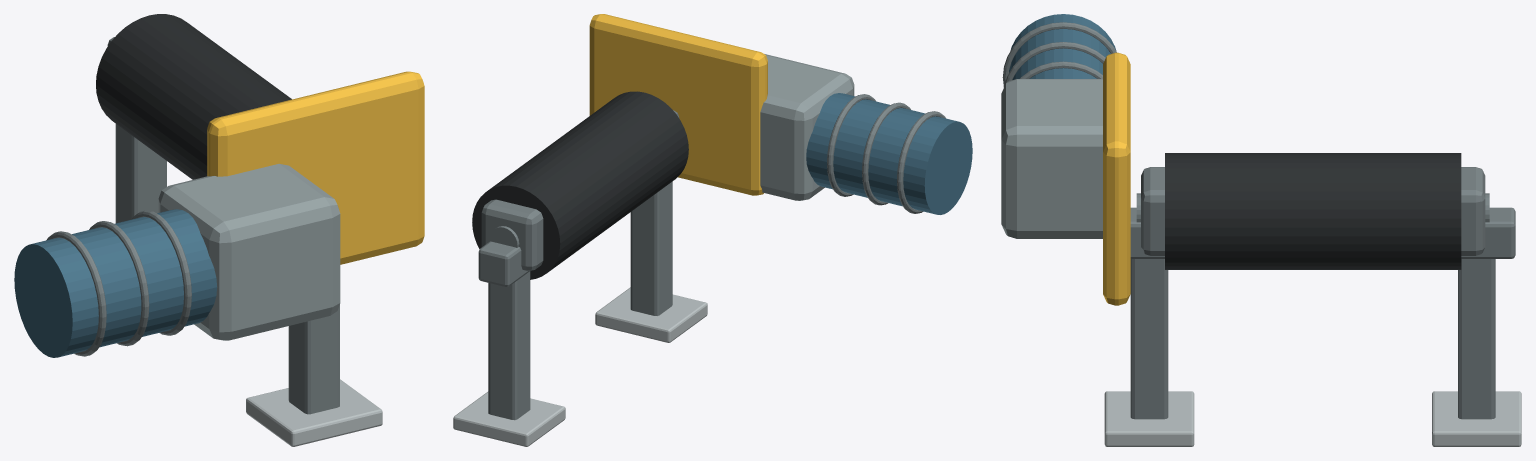
File: CONVEYOR-HEAD-MODULE.glb
The picture shows the model from 3 angles, left to right: view 1: azimuth 30°, elevation 25°; view 2: azimuth 150°, elevation 25°; view 3: azimuth 270°, elevation 25°; orthographic projection. The views are drawn at different scales.
Visible parts, largest first — view 1: CONVEYOR-HEAD_GUARD, CONVEYOR-HEAD_GEARBOX, CONVEYOR-HEAD_MOTOR, CONVEYOR-HEAD_PULLEY, CONVEYOR-HEAD_FOOT_-0.95, CONVEYOR-HEAD_LEG_-0.95, CONVEYOR-HEAD_LEG_0.95, CONVEYOR-HEAD_MOTOR_FIN_-1.82, CONVEYOR-HEAD_MOTOR_FIN_-1.28, CONVEYOR-HEAD_MOTOR_FIN_-1.55; view 2: CONVEYOR-HEAD_GUARD, CONVEYOR-HEAD_PULLEY, CONVEYOR-HEAD_MOTOR, CONVEYOR-HEAD_GEARBOX, CONVEYOR-HEAD_LEG_0.95, CONVEYOR-HEAD_LEG_-0.95, CONVEYOR-HEAD_FOOT_0.95, CONVEYOR-HEAD_FOOT_-0.95, CONVEYOR-HEAD_BEARING_R, CONVEYOR-HEAD_CROSSBEAM, CONVEYOR-HEAD_MOTOR_FIN_-1.55, CONVEYOR-HEAD_MOTOR_FIN_-1.82 (+1 smaller); view 3: CONVEYOR-HEAD_PULLEY, CONVEYOR-HEAD_GEARBOX, CONVEYOR-HEAD_GUARD, CONVEYOR-HEAD_LEG_-0.95, CONVEYOR-HEAD_LEG_0.95, CONVEYOR-HEAD_FOOT_-0.95, CONVEYOR-HEAD_FOOT_0.95, CONVEYOR-HEAD_MOTOR, CONVEYOR-HEAD_CROSSBEAM, CONVEYOR-HEAD_BEARING_R, CONVEYOR-HEAD_BEARING_L, CONVEYOR-HEAD_MOTOR_FIN_-1.82 (+2 smaller).
Boxes of the visible parts, x1=… form: CONVEYOR-HEAD_GUARD: x1=207, y1=71, x2=424, y2=264; CONVEYOR-HEAD_GEARBOX: x1=158, y1=163, x2=340, y2=340; CONVEYOR-HEAD_MOTOR: x1=14, y1=209, x2=217, y2=357; CONVEYOR-HEAD_PULLEY: x1=96, y1=14, x2=291, y2=179; CONVEYOR-HEAD_FOOT_-0.95: x1=246, y1=379, x2=382, y2=446; CONVEYOR-HEAD_LEG_-0.95: x1=288, y1=305, x2=339, y2=414; CONVEYOR-HEAD_LEG_0.95: x1=115, y1=124, x2=166, y2=223; CONVEYOR-HEAD_MOTOR_FIN_-1.82: x1=46, y1=231, x2=106, y2=356; CONVEYOR-HEAD_MOTOR_FIN_-1.28: x1=131, y1=210, x2=191, y2=335; CONVEYOR-HEAD_MOTOR_FIN_-1.55: x1=89, y1=221, x2=149, y2=346; CONVEYOR-HEAD_GUARD: x1=589, y1=14, x2=767, y2=195; CONVEYOR-HEAD_PULLEY: x1=472, y1=91, x2=688, y2=279; CONVEYOR-HEAD_MOTOR: x1=806, y1=93, x2=972, y2=214; CONVEYOR-HEAD_GEARBOX: x1=760, y1=54, x2=854, y2=200; CONVEYOR-HEAD_LEG_0.95: x1=488, y1=271, x2=530, y2=420; CONVEYOR-HEAD_LEG_-0.95: x1=630, y1=181, x2=672, y2=315; CONVEYOR-HEAD_FOOT_0.95: x1=453, y1=391, x2=565, y2=446; CONVEYOR-HEAD_FOOT_-0.95: x1=595, y1=287, x2=707, y2=342; CONVEYOR-HEAD_BEARING_R: x1=481, y1=199, x2=543, y2=270; CONVEYOR-HEAD_CROSSBEAM: x1=478, y1=241, x2=529, y2=286; CONVEYOR-HEAD_MOTOR_FIN_-1.55: x1=862, y1=102, x2=910, y2=205; CONVEYOR-HEAD_MOTOR_FIN_-1.82: x1=897, y1=111, x2=945, y2=213; CONVEYOR-HEAD_PULLEY: x1=1165, y1=153, x2=1461, y2=269; CONVEYOR-HEAD_GEARBOX: x1=1001, y1=79, x2=1102, y2=238; CONVEYOR-HEAD_GUARD: x1=1103, y1=52, x2=1130, y2=305; CONVEYOR-HEAD_LEG_-0.95: x1=1130, y1=259, x2=1168, y2=419; CONVEYOR-HEAD_LEG_0.95: x1=1458, y1=259, x2=1495, y2=419; CONVEYOR-HEAD_FOOT_-0.95: x1=1104, y1=391, x2=1194, y2=446; CONVEYOR-HEAD_FOOT_0.95: x1=1432, y1=391, x2=1521, y2=446; CONVEYOR-HEAD_MOTOR: x1=1009, y1=14, x2=1116, y2=79; CONVEYOR-HEAD_CROSSBEAM: x1=1130, y1=207, x2=1515, y2=258; CONVEYOR-HEAD_BEARING_R: x1=1461, y1=167, x2=1485, y2=255; CONVEYOR-HEAD_BEARING_L: x1=1141, y1=167, x2=1164, y2=255; CONVEYOR-HEAD_MOTOR_FIN_-1.82: x1=1002, y1=22, x2=1116, y2=86.
Size of the model in its own units: 2.58 by 2.06 by 3.02.
